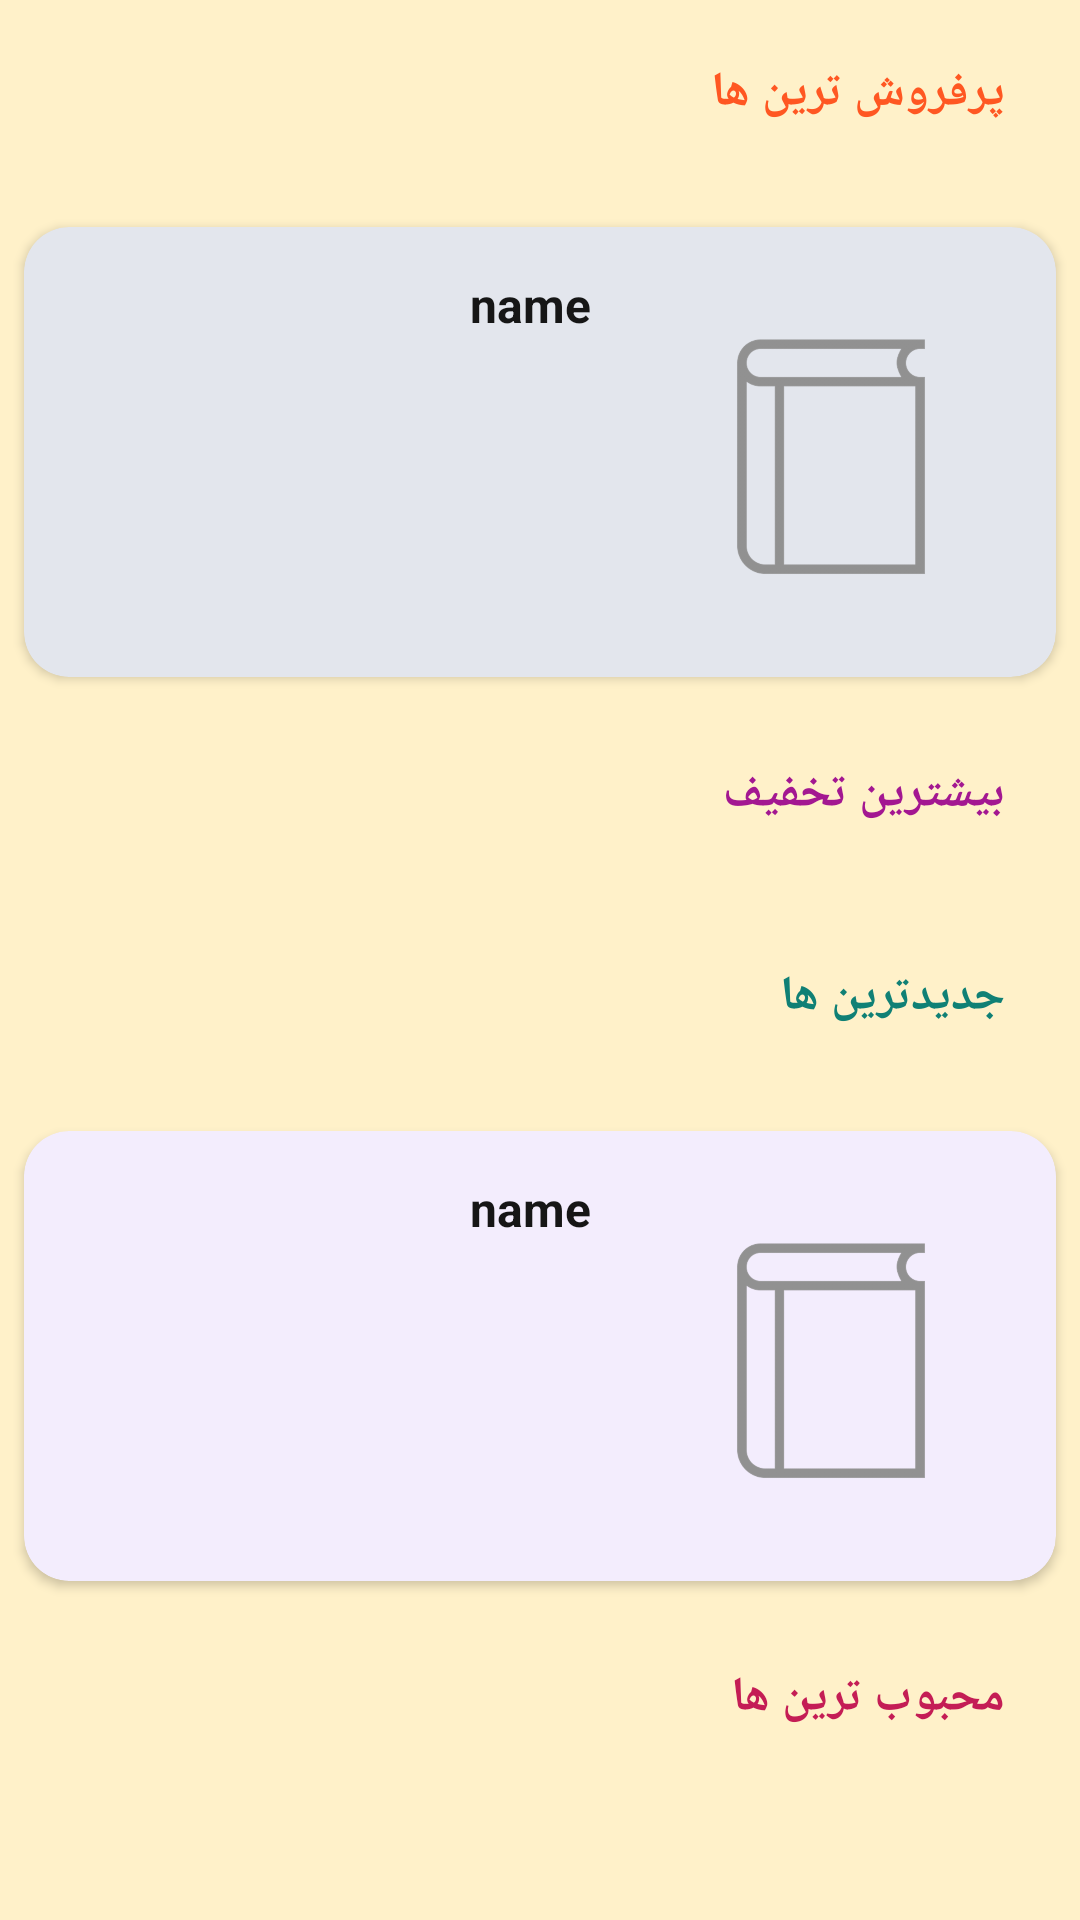

Where icons sit on this 1080x1920 app screen, as (x1, y1, x2, y2):
book: (737, 339, 925, 574), (737, 1243, 925, 1478)
